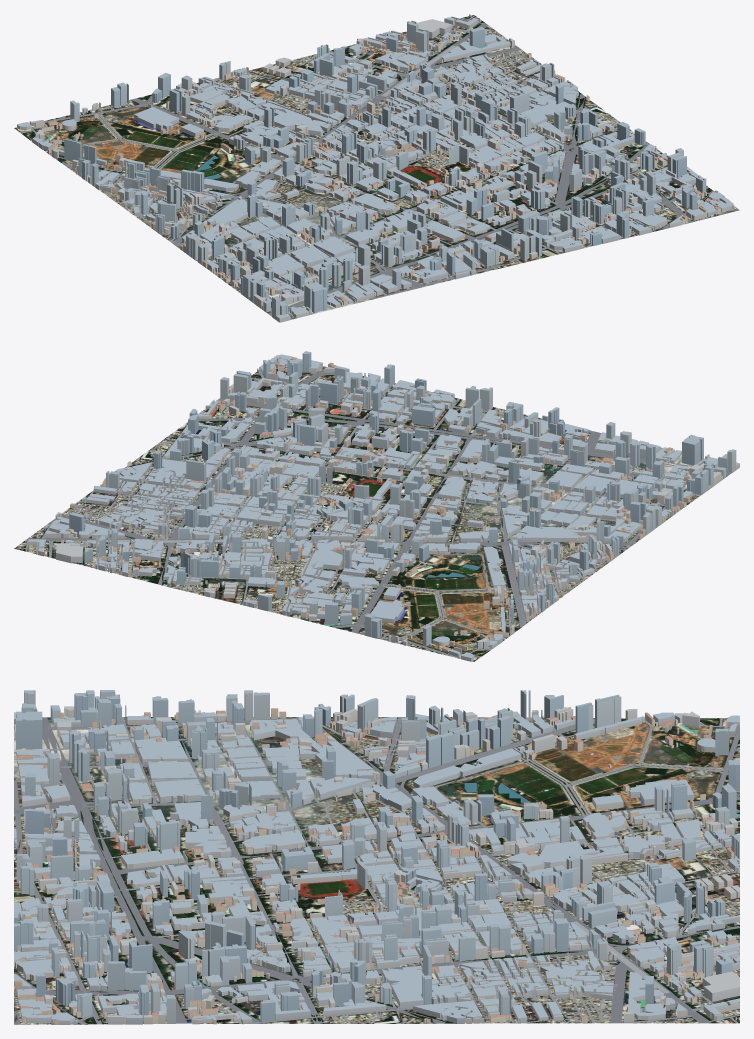
3 views of the same model, one above another, from view 1: azimuth 30°, elevation 25°; view 2: azimuth 150°, elevation 25°; view 3: azimuth 270°, elevation 25° (orthographic). The views are drawn at different scales.
Visible parts, largest first — view 1: BLDG_INDUSTRIAL_PORT, BLDG_MODERN_TOWER, TERRAIN, ROAD_METRO, BLDG_APARTMENT, BLDG_SHOPHOUSE, BLDG_TUBE_HOUSE; view 2: BLDG_INDUSTRIAL_PORT, BLDG_MODERN_TOWER, TERRAIN, ROAD_METRO, BLDG_APARTMENT, BLDG_SHOPHOUSE, BLDG_TUBE_HOUSE; view 3: BLDG_INDUSTRIAL_PORT, BLDG_MODERN_TOWER, TERRAIN, ROAD_METRO, BLDG_APARTMENT, BLDG_SHOPHOUSE, BLDG_TUBE_HOUSE.
Part boxes in pixels (box(x1,y1,x2,y2)): BLDG_INDUSTRIAL_PORT: box(17, 16, 733, 322); BLDG_MODERN_TOWER: box(64, 20, 706, 319); TERRAIN: box(14, 15, 737, 319); ROAD_METRO: box(21, 15, 739, 319); BLDG_APARTMENT: box(35, 19, 703, 314); BLDG_SHOPHOUSE: box(35, 30, 721, 309); BLDG_TUBE_HOUSE: box(43, 14, 734, 310); BLDG_INDUSTRIAL_PORT: box(25, 354, 739, 661); BLDG_MODERN_TOWER: box(69, 351, 736, 646); TERRAIN: box(14, 364, 729, 661); ROAD_METRO: box(15, 367, 731, 658); BLDG_APARTMENT: box(55, 372, 721, 648); BLDG_SHOPHOUSE: box(61, 357, 722, 654); BLDG_TUBE_HOUSE: box(18, 369, 688, 650); BLDG_INDUSTRIAL_PORT: box(14, 711, 739, 1024); BLDG_MODERN_TOWER: box(14, 690, 739, 1023); TERRAIN: box(14, 717, 739, 1024); ROAD_METRO: box(14, 717, 739, 1024); BLDG_APARTMENT: box(15, 706, 739, 1024); BLDG_SHOPHOUSE: box(15, 708, 737, 1023); BLDG_TUBE_HOUSE: box(14, 712, 739, 1024).
Bounding box in the file's own units: 2000 × 99.93 × 2000.
Materials: 8 (1 with a texture image).
